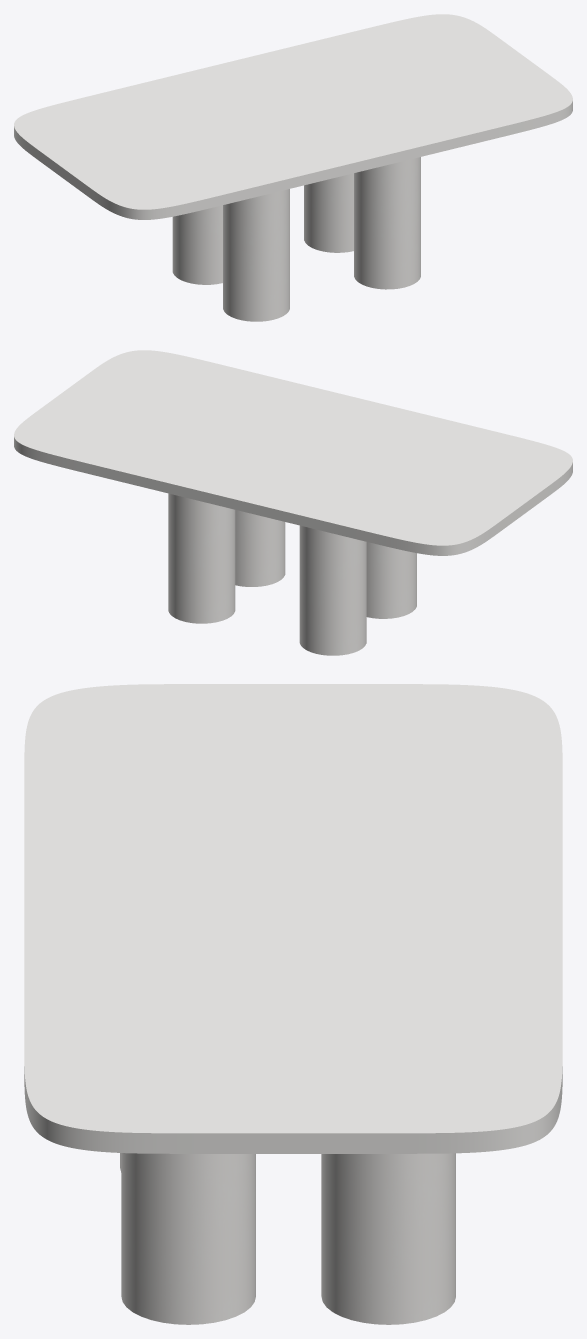
Rendered from purewhite_softrecta_standard_grove.glb.
3 renders of one model, top to bottom at view 1: azimuth 30°, elevation 25°; view 2: azimuth 150°, elevation 25°; view 3: azimuth 270°, elevation 25°, orthographic. The views are drawn at different scales.
Visible parts, largest first — view 1: standard_softrecta, grove; view 2: standard_softrecta, grove; view 3: standard_softrecta, grove.
Part boxes in pixels (x1,y1,x2,y2): standard_softrecta: (14,14,572,219); grove: (172,157,420,321); standard_softrecta: (14,350,572,555); grove: (168,493,416,655); standard_softrecta: (24,684,562,1153); grove: (120,1153,455,1324).
Size of the model in its own units: 7.5 by 2.5 by 3.8.
1 material, 1 textured.
